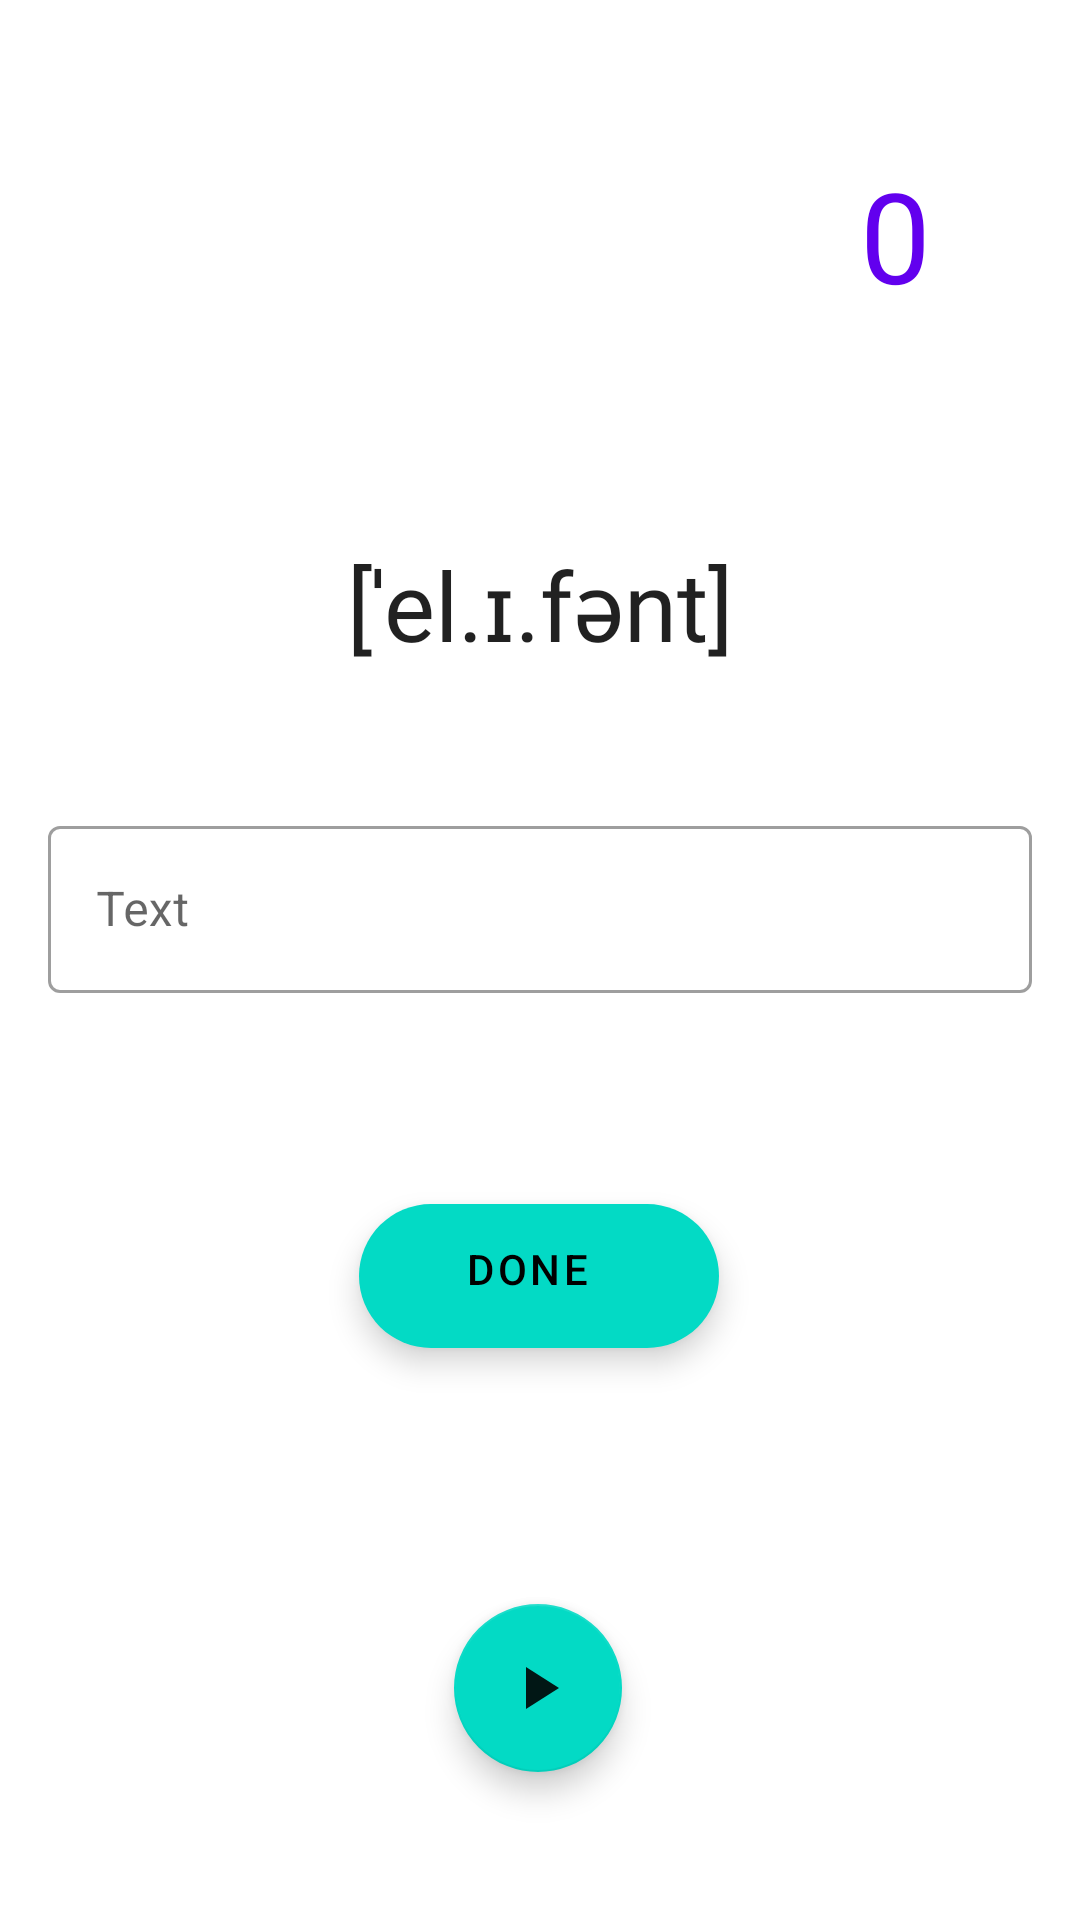

Screen size 1080px x 1920px. Icon name, then its box in pixels as BBox(x1, y1, x2, y2):
play arrow: BBox(454, 1604, 622, 1772)
